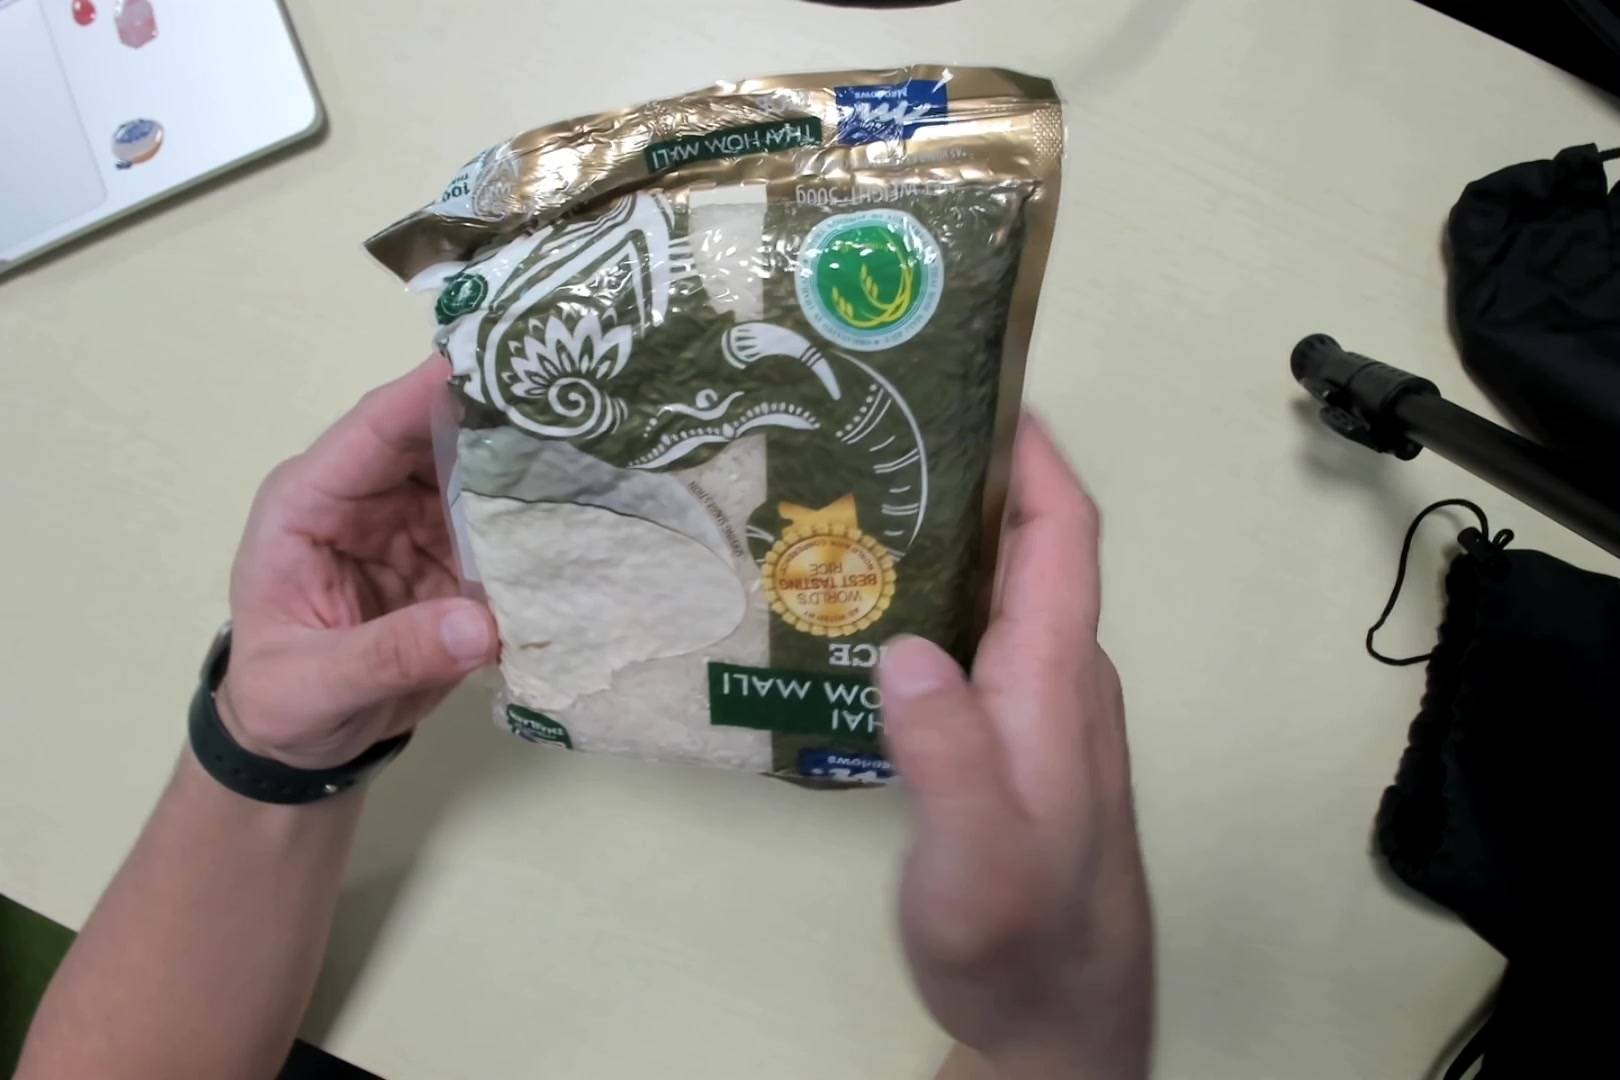Rice(White)_500-599g_NonHalal_NonHealthy: (428, 78, 1061, 785)
